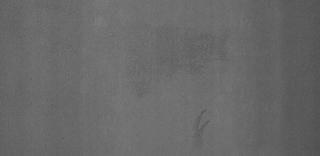water spot: (192, 106, 214, 144)
